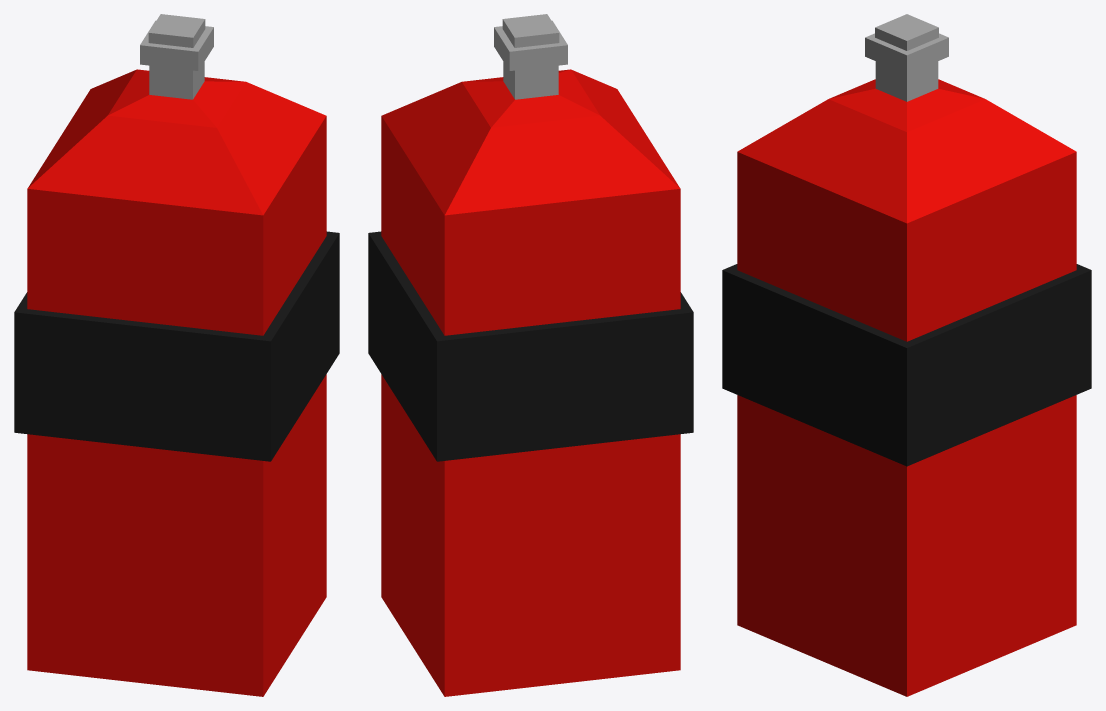
The model's file is Air pump.fbx.
The picture shows the model from 3 angles, left to right: view 1: azimuth 30°, elevation 25°; view 2: azimuth 150°, elevation 25°; view 3: azimuth 270°, elevation 25°; orthographic projection.
Visible parts, largest first — view 1: Cube; view 2: Cube; view 3: Cube.
Boxes of the visible parts, left/top/right/bottom form: Cube: left=14, top=14, right=339, bottom=696; Cube: left=368, top=14, right=693, bottom=696; Cube: left=722, top=14, right=1091, bottom=696.
Size of the model in its own units: 308 by 549 by 308.
